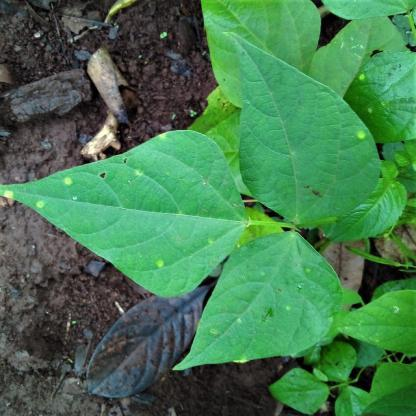Beans_Rust: (2, 132, 247, 299), (242, 32, 378, 229), (175, 234, 343, 371), (352, 50, 416, 143)
